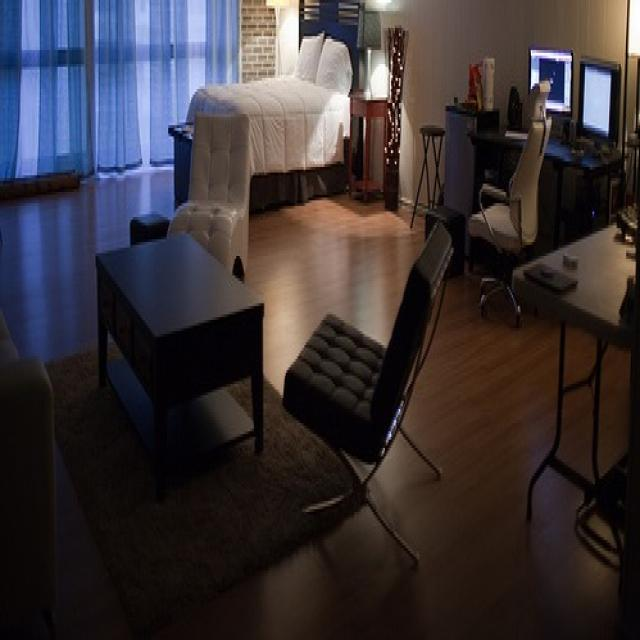Table: (503, 181, 640, 595), (95, 238, 272, 458), (486, 122, 636, 235), (445, 79, 512, 248), (342, 81, 399, 215)
chair: (271, 209, 469, 558), (465, 73, 557, 343), (181, 86, 261, 287), (408, 101, 454, 244)
